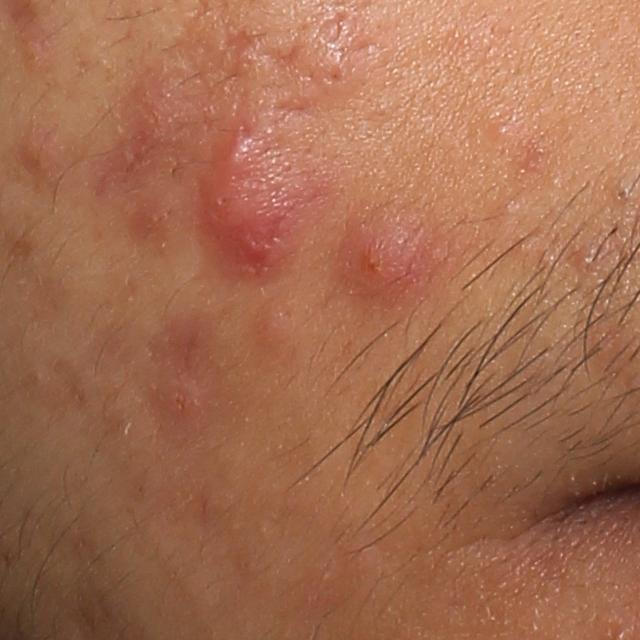comedo: (245, 302, 294, 352), (611, 183, 635, 207), (574, 250, 597, 272)
nodule: (197, 120, 344, 293)
papule: (335, 201, 445, 296), (152, 374, 209, 430), (13, 137, 59, 180)
